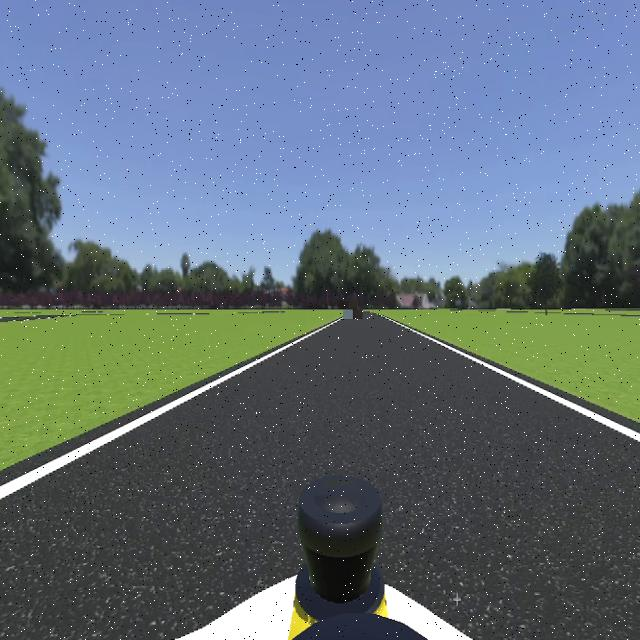road: (0, 316, 640, 640)
solid_line: (0, 320, 339, 502), (391, 321, 640, 445)
